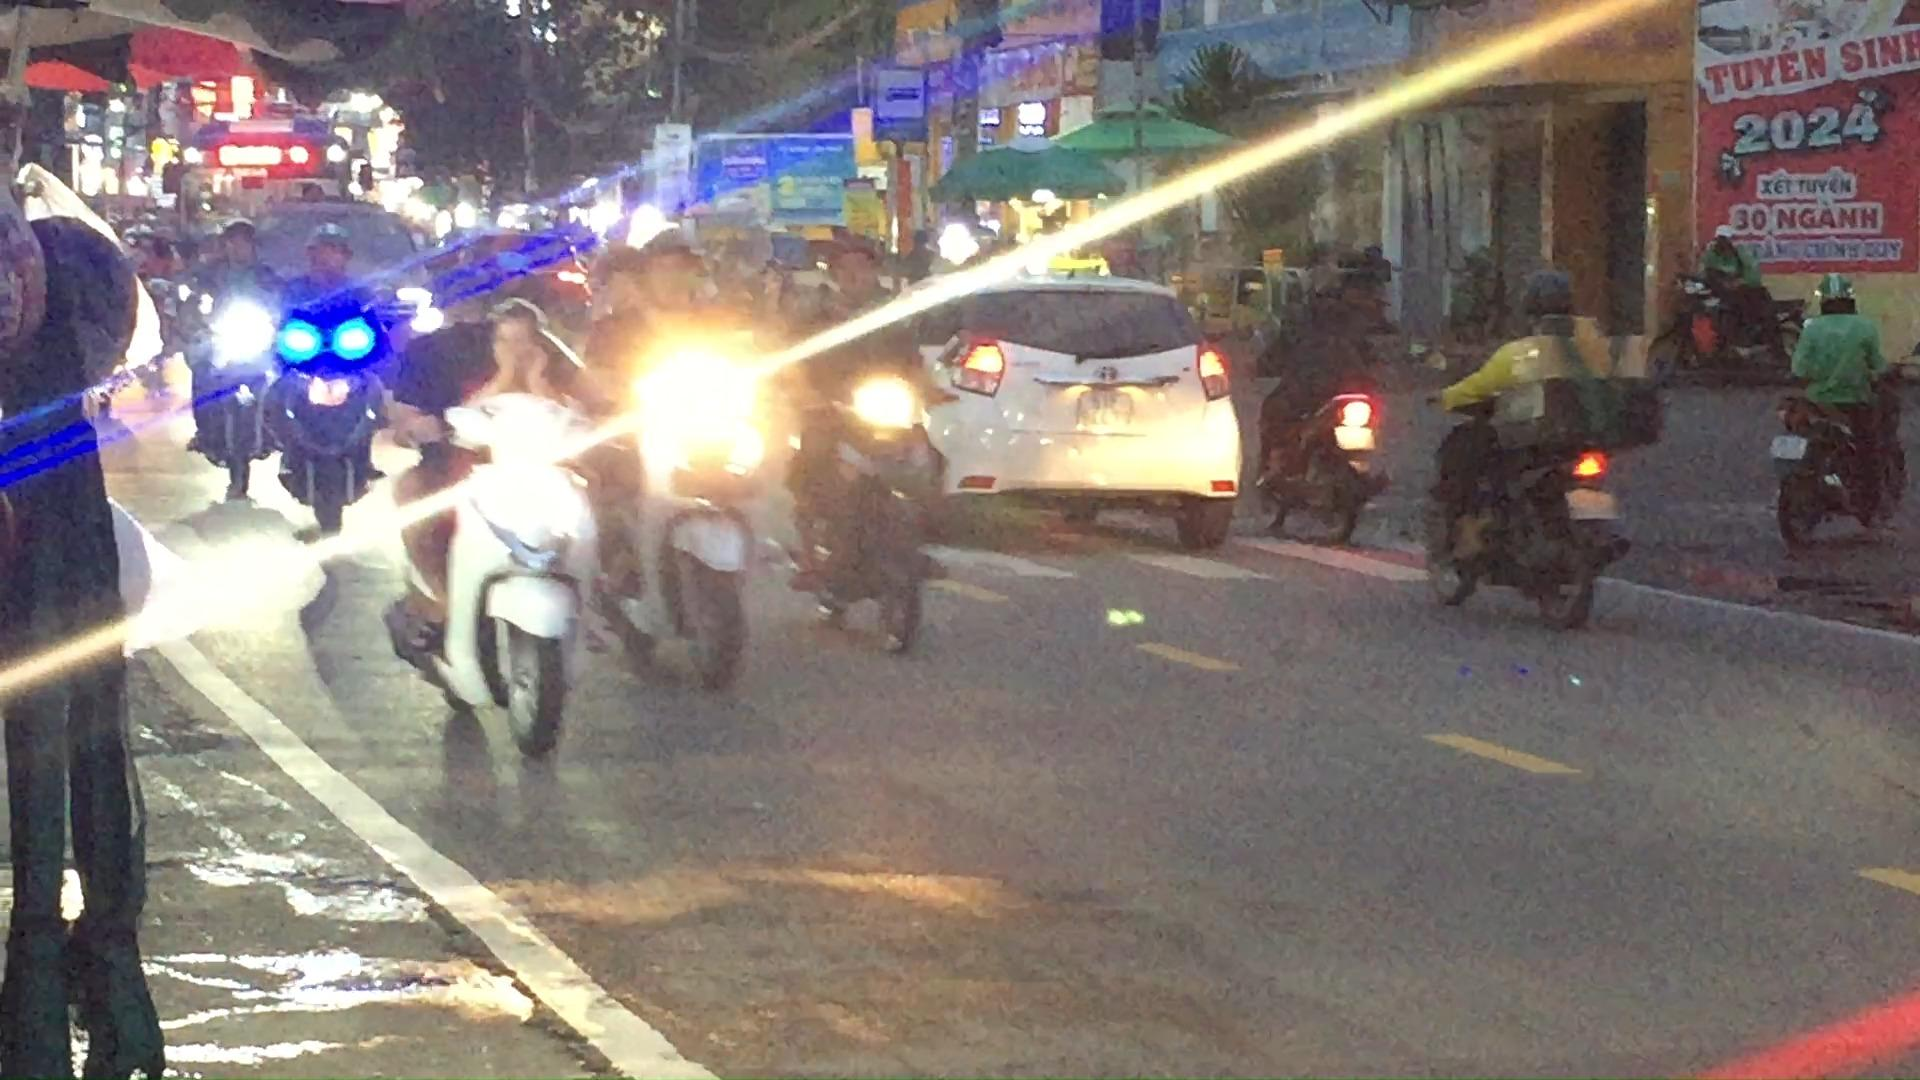bien_so: (1075, 389, 1137, 431), (1563, 485, 1621, 523), (1765, 429, 1805, 462), (1332, 424, 1377, 453)
